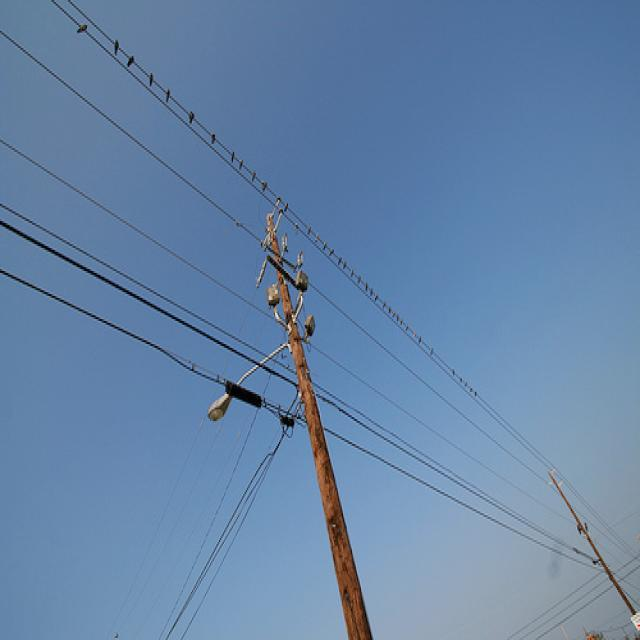pole: (264, 196, 375, 640), (548, 471, 640, 632)
wire: (0, 27, 631, 559), (50, 0, 637, 561), (64, 0, 614, 533), (0, 136, 577, 529), (0, 201, 599, 566), (0, 221, 602, 567), (0, 271, 599, 567), (164, 399, 302, 639), (157, 372, 272, 640), (180, 426, 290, 639)
